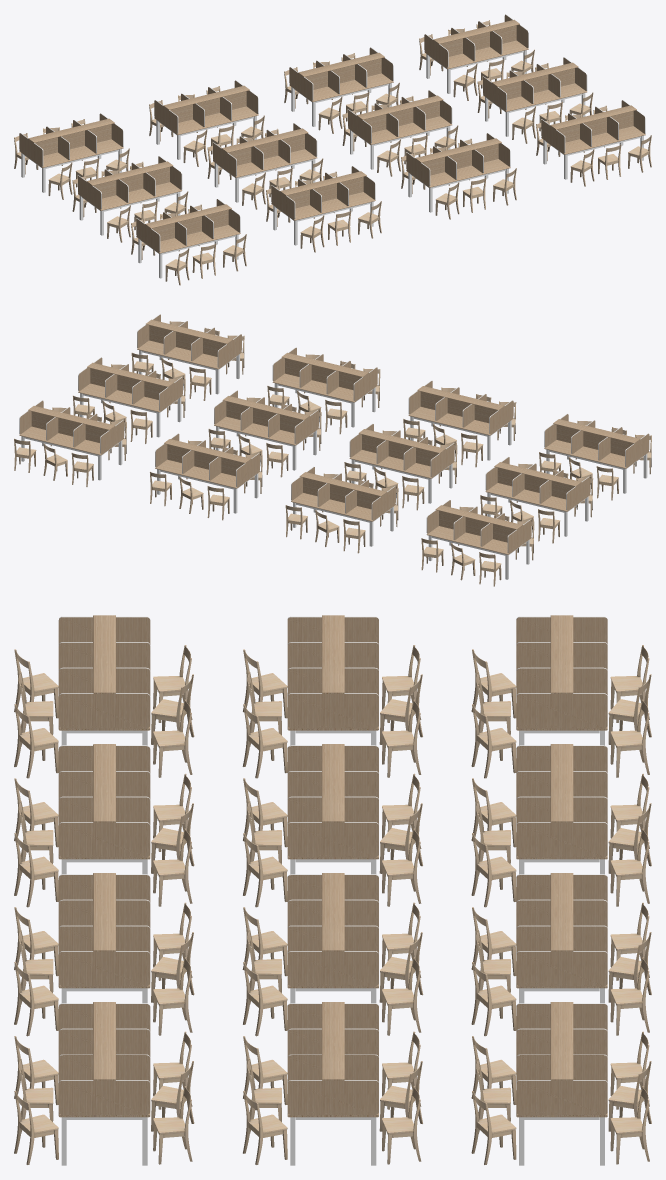
The model's file is reading_room_chair_table.FBX.
3 views of the same model, one above another, from view 1: azimuth 30°, elevation 25°; view 2: azimuth 150°, elevation 25°; view 3: azimuth 270°, elevation 25° (orthographic). The views are drawn at different scales.
Visible parts, largest first — view 1: Table_010, Table_007, Table_002, Table_004, Table_003, Table_005, Table_006, Table_009, Table_011, Table_008, Table_001, Table_012 (+4 smaller); view 2: Table_002, Table_006, Table_001, Table_011, Table_005, Table_012, Table_007, Table_009, Table_008, Table_010, Table_003, Table_004 (+16 smaller); view 3: Table_003, Table_002, Table_001, Table_008, Table_005, Table_011, Table_007, Table_010, Table_004, Table_006, Table_009, Table_012 (+72 smaller).
Boxes of the visible parts, x1,y1,x2,y2 form: Table_010: (78,156,182,235); Table_007: (213,123,317,202); Table_002: (483,57,587,136); Table_004: (348,90,452,169); Table_003: (541,100,645,179); Table_005: (406,133,510,212); Table_006: (289,47,393,126); Table_009: (154,80,258,159); Table_011: (136,199,240,278); Table_008: (271,166,375,245); Table_001: (424,14,528,93); Table_012: (19,113,123,192); Table_002: (78,357,182,437); Table_006: (155,433,259,513); Table_001: (19,400,124,480); Table_011: (544,413,649,493); Table_005: (272,347,377,427); Table_012: (426,500,531,579); Table_007: (349,423,454,503); Table_009: (291,466,395,546); Table_008: (408,380,513,460); Table_010: (485,457,590,536); Table_003: (137,314,241,394); Table_004: (214,390,318,470); Table_003: (58,1002,150,1165); Table_002: (287,1002,378,1165); Table_001: (516,1002,607,1165); Table_008: (58,744,150,874); Table_005: (58,873,150,1003); Table_011: (58,615,150,745); Table_007: (287,744,378,874); Table_010: (287,615,378,745); Table_004: (287,873,378,1003); Table_006: (516,873,607,1003); Table_009: (516,744,607,874); Table_012: (516,615,607,745).
Size of the model in its own units: 14400 by 1270 by 8367.
